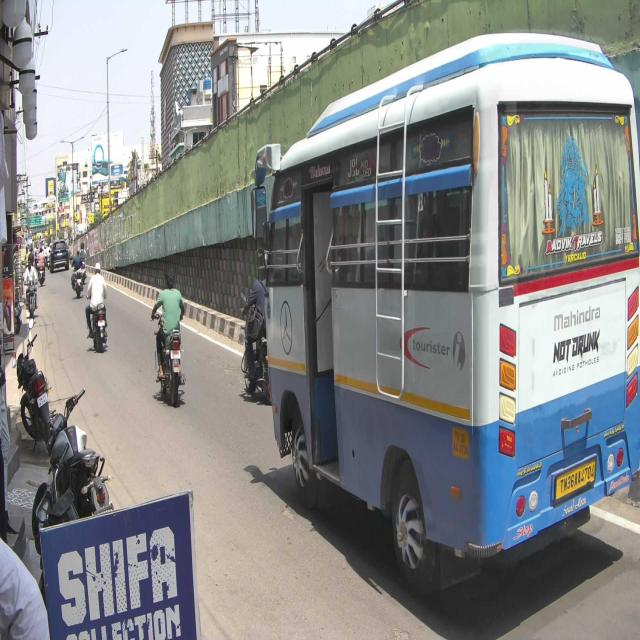single_rider: (150, 267, 187, 408)
